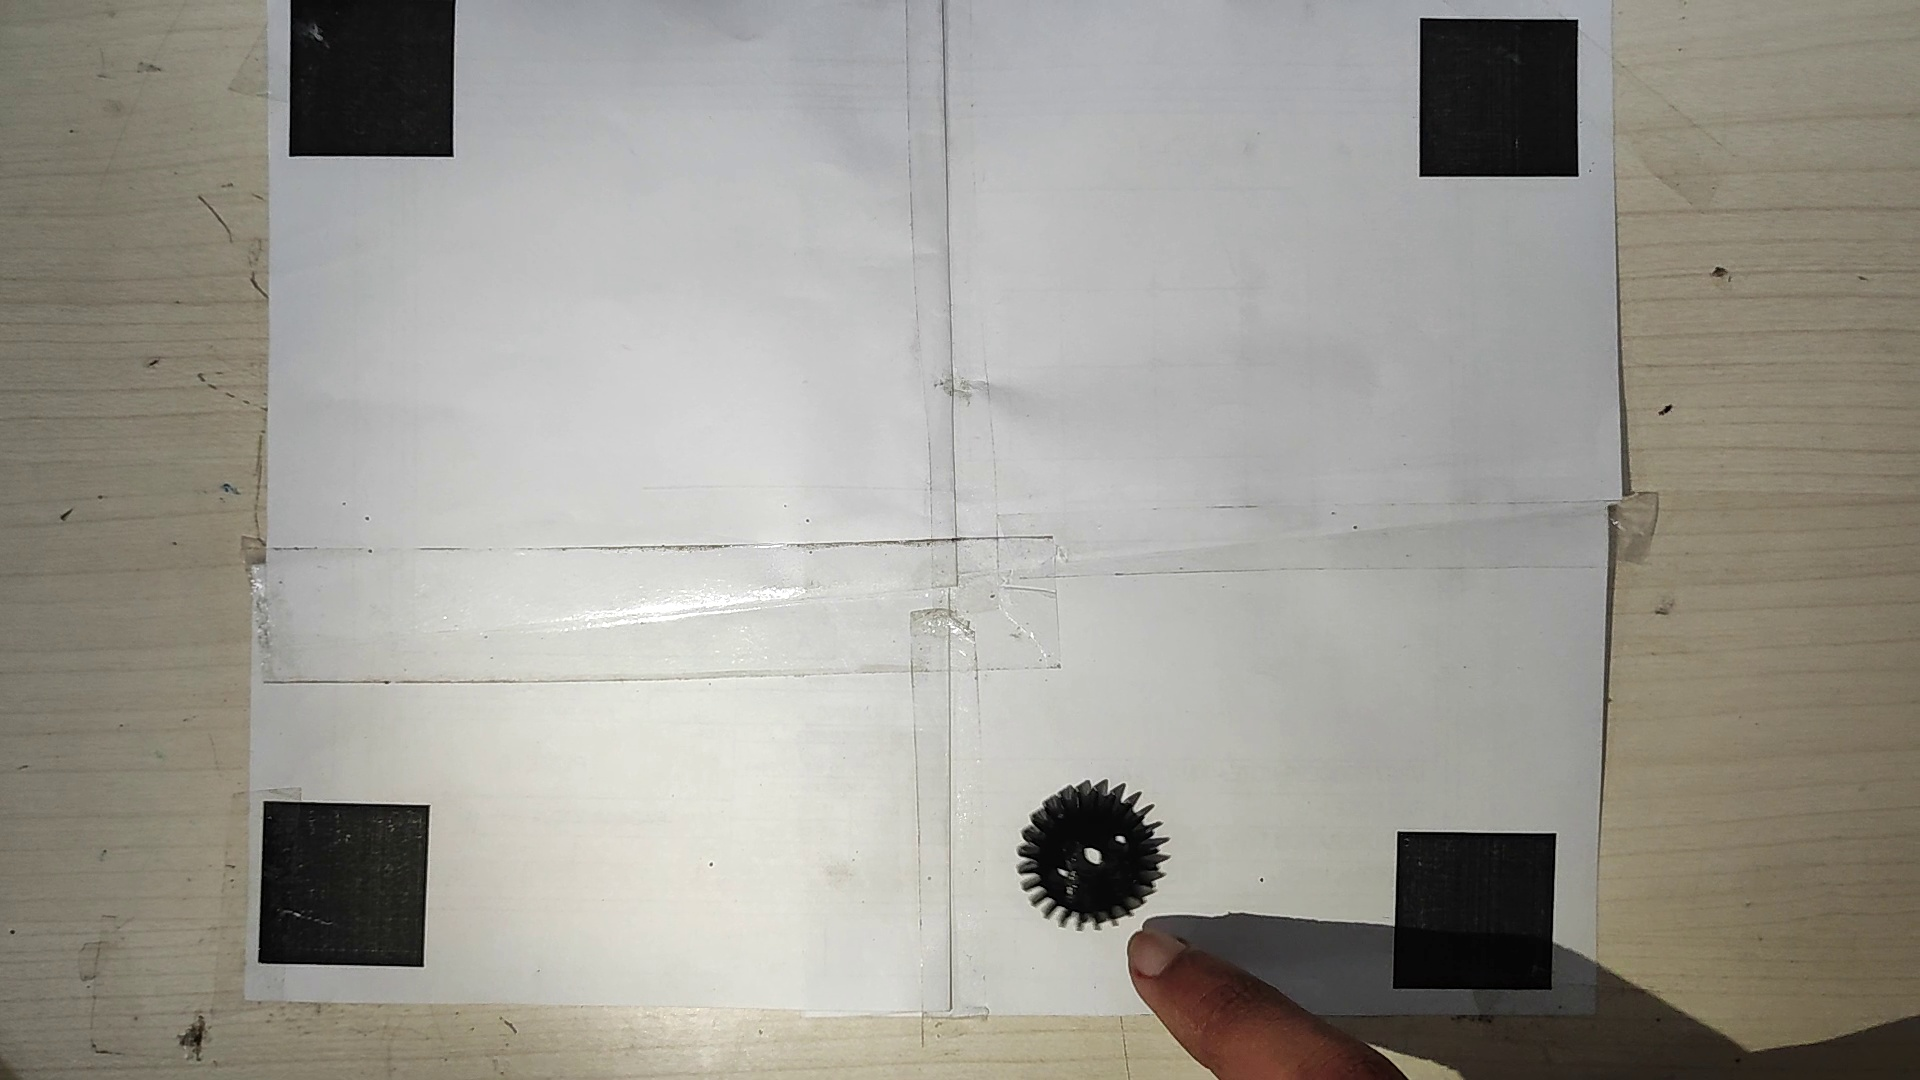Gear: (1014, 775, 1174, 934)
